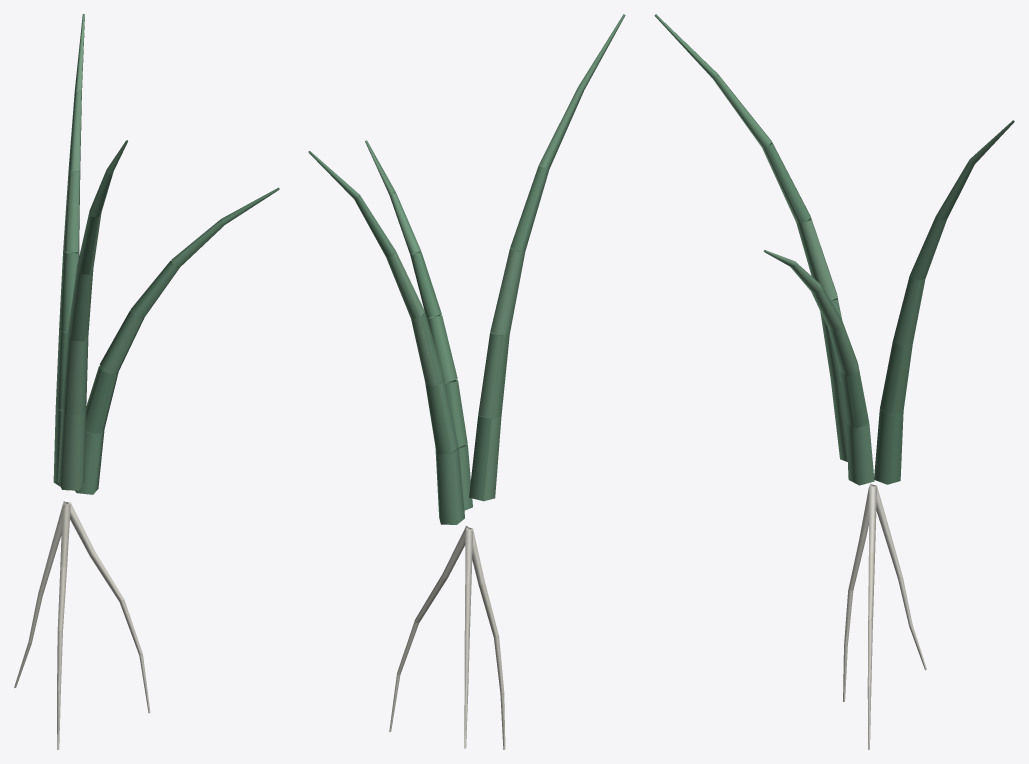
The model's file is oignon_jeune.glb.
3 views of the same model, side by side, from view 1: azimuth 30°, elevation 25°; view 2: azimuth 150°, elevation 25°; view 3: azimuth 270°, elevation 25° (orthographic).
Parts seen in each view (by area): view 1: Oignon_Feuilles, Oignon_Racines; view 2: Oignon_Feuilles, Oignon_Racines; view 3: Oignon_Feuilles, Oignon_Racines.
Boxes of the visible parts, left/top/right/bottom form: Oignon_Feuilles: left=53, top=14, right=279, bottom=494; Oignon_Racines: left=14, top=501, right=150, bottom=749; Oignon_Feuilles: left=308, top=14, right=625, bottom=524; Oignon_Racines: left=389, top=525, right=505, bottom=749; Oignon_Feuilles: left=654, top=14, right=1014, bottom=485; Oignon_Racines: left=843, top=483, right=926, bottom=749.
Bounding box in the file's own units: 0.0762 × 0.2385 × 0.1154.
